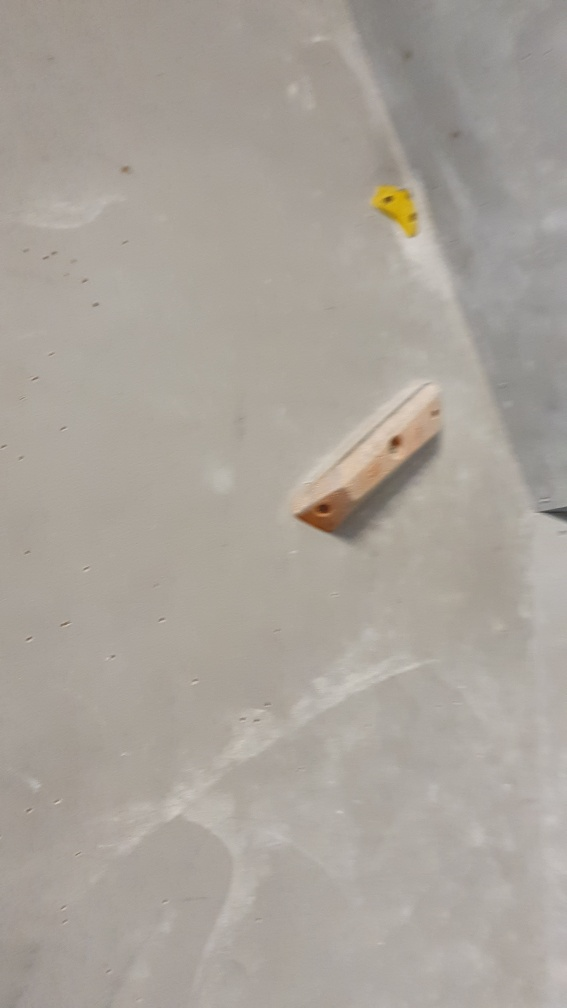Pinch: (293, 384, 447, 546)
